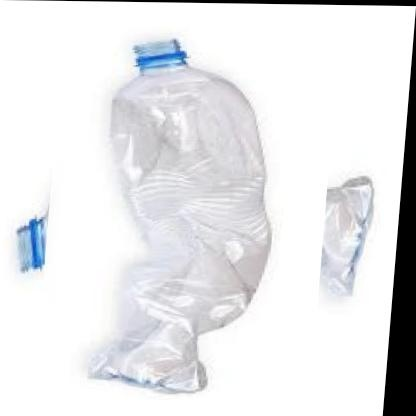trash: (89, 39, 269, 391), (321, 176, 372, 295)
